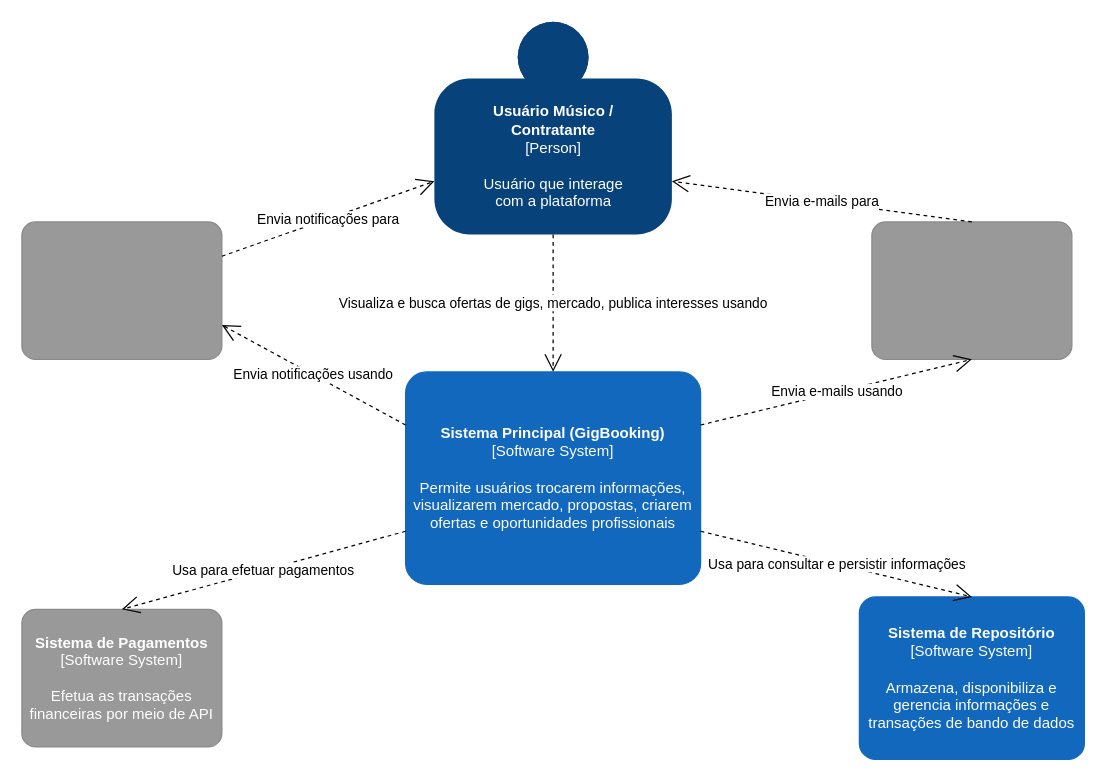
This 1106x781 diagram has some shape labels left out. Here are the shapes that lost their labels. From the top down, the box of each, then its label:
(21, 221, 222, 359): Sistema de notificações [Software System] Notificações Push Mobile
(871, 221, 1072, 359): Sistema de e-mails [Software System] Notificações de e-mail da aplicação
